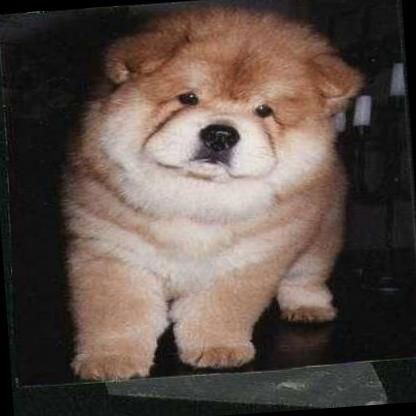chow: (36, 0, 382, 385)
